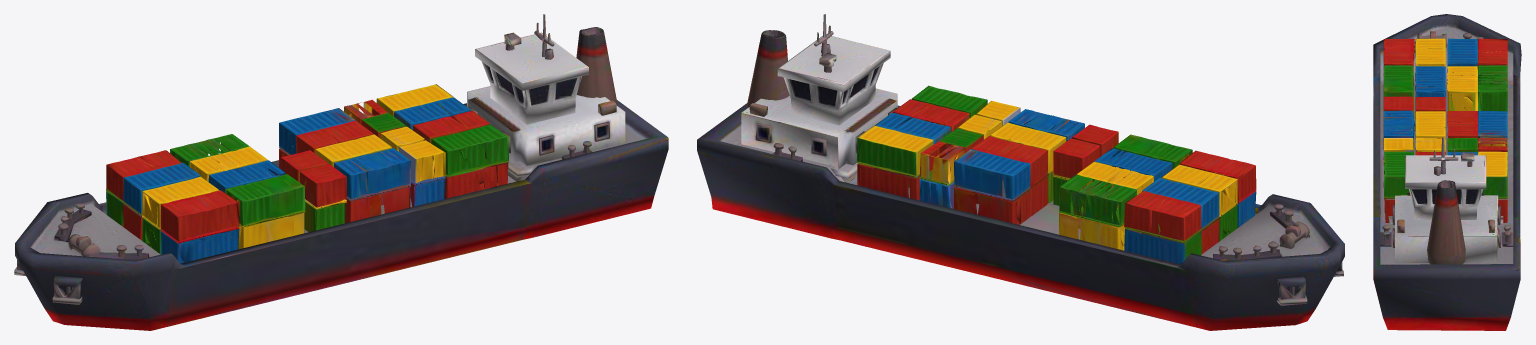
Rendered from ship_cargo.glb.
3 views of the same model, side by side, from view 1: azimuth 30°, elevation 25°; view 2: azimuth 150°, elevation 25°; view 3: azimuth 270°, elevation 25° (orthographic). The views are drawn at different scales.
Visible parts, largest first — view 1: geometry_0; view 2: geometry_0; view 3: geometry_0.
Boxes of the visible parts, x1,y1,x2,y2 form: geometry_0: (14, 14, 668, 330); geometry_0: (697, 14, 1344, 330); geometry_0: (1373, 14, 1521, 330).
Bounding box in the file's own units: 0.9536 × 0.2837 × 0.2358.
Materials: 1 (1 with a texture image).
